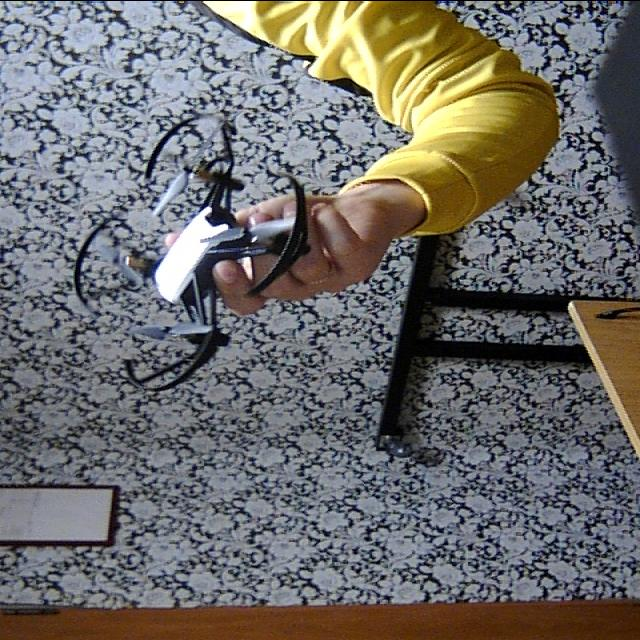drone: (50, 107, 328, 400)
